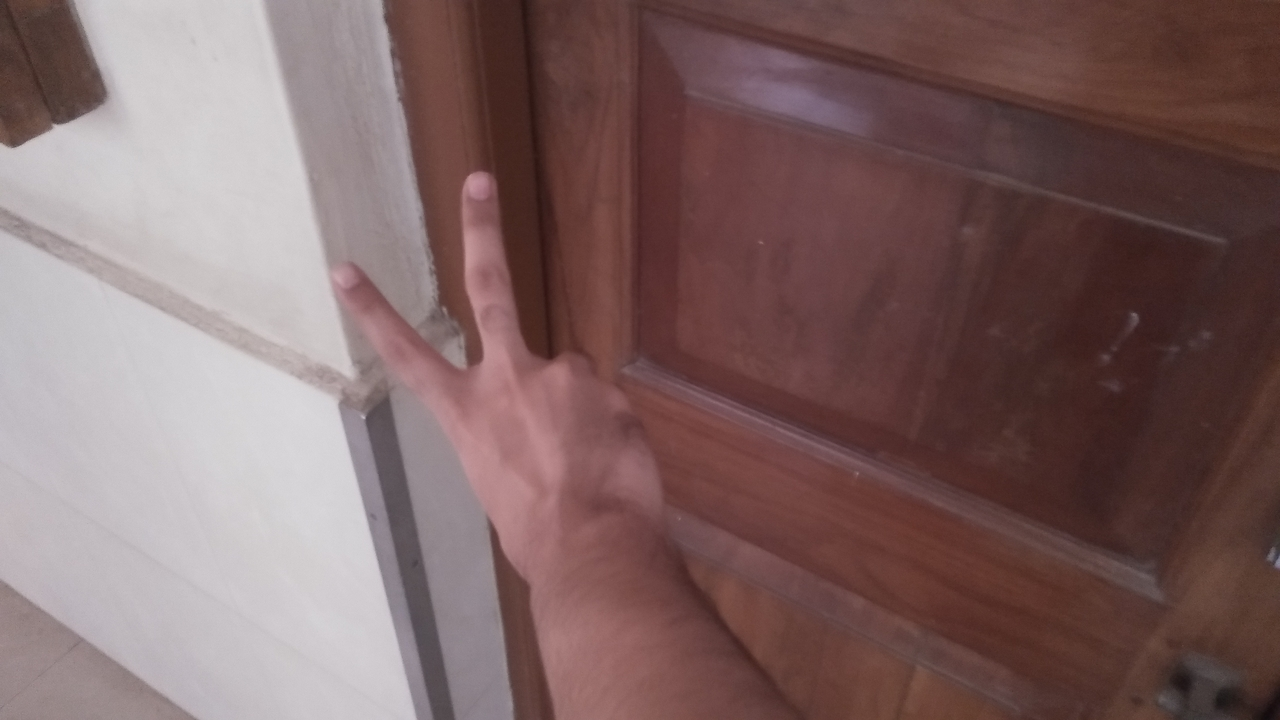fingertip: (318, 254, 382, 304), (448, 162, 502, 208)
